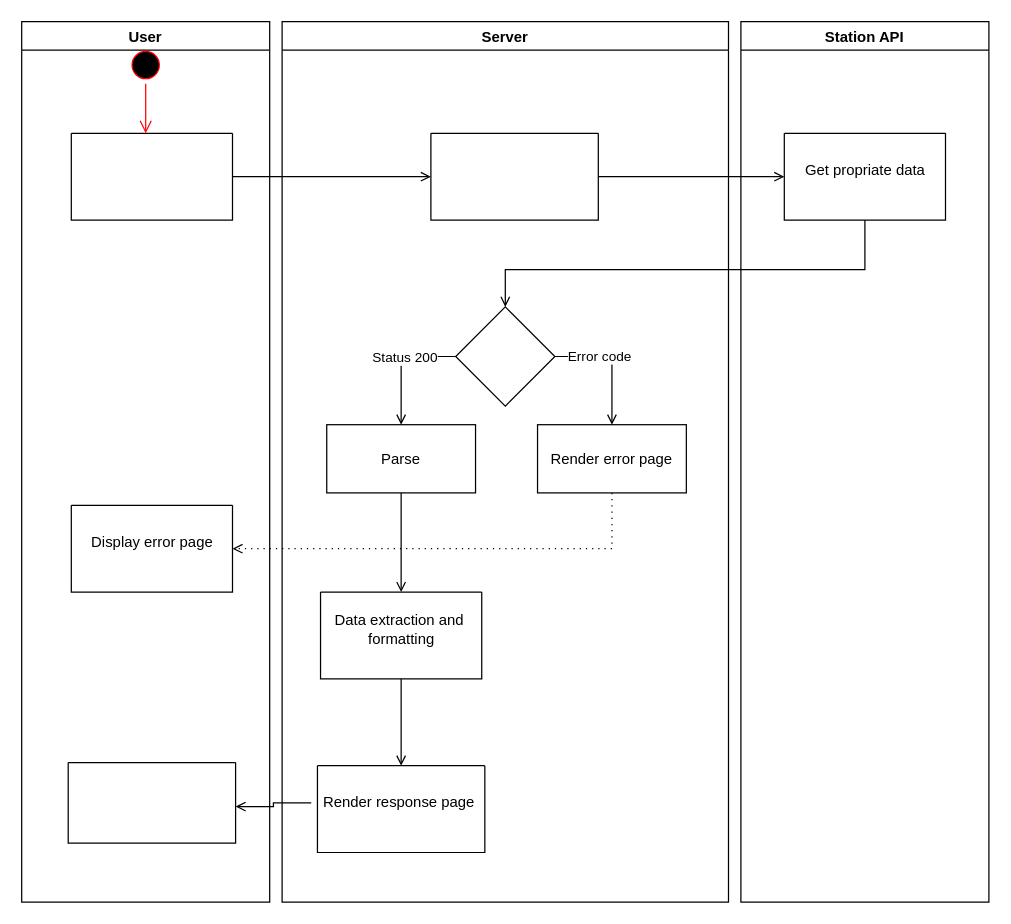
Some shapes in this 1011 by 924 pixel diagram are drawn without their labels. Each missing label, with the centre of its shape:
"Display schedule" belongs at [151,802].
"Get data from API" belongs at [514,176].
"Get schedule" belongs at [151,176].
"Status OK" belongs at [504,356].
